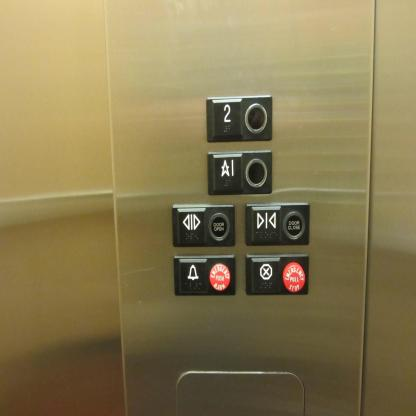2: (204, 92, 274, 144)
alarm: (170, 253, 239, 298)
close: (244, 200, 312, 248)
open: (170, 202, 239, 250)
s1: (204, 148, 276, 198)
stop: (242, 252, 310, 298)
